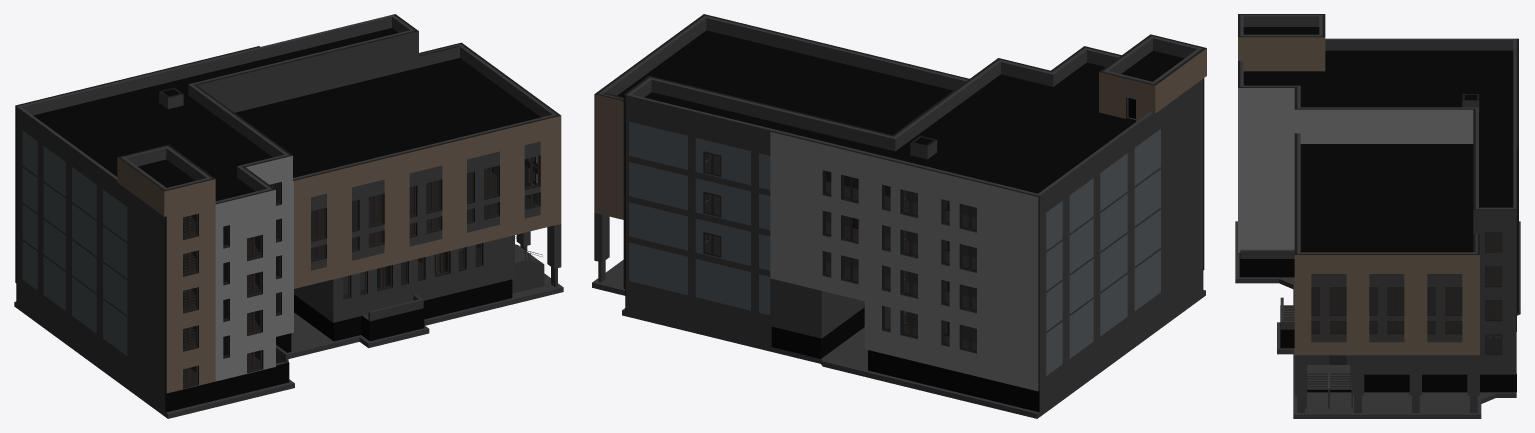
Rendered from School-9_SR.glb.
3 views of the same model, side by side, from view 1: azimuth 30°, elevation 25°; view 2: azimuth 150°, elevation 25°; view 3: azimuth 270°, elevation 25° (orthographic). The views are drawn at different scales.
Visible parts, largest first — view 1: geom-9FF4A40000002B5D, geom-9FF4A40000002AEC, geom-9FF4A40000002B43, geom-9FF4A40000002B69, geom-9FF4A40000002BF0, geom-9FF4A40000002B41, geom-9FF4A40000002BC3, geom-9FF4A40000002B1A, geom-0, geom-9FF4A40000091920, geom-9FF4A40000002AEE; view 2: geom-9FF4A40000002AEC, geom-9FF4A40000002B41, geom-9FF4A40000002B5D, geom-9FF4A40000002BF0, geom-9FF4A40000002B43, geom-9FF4A40000002B69, geom-0, geom-9FF4A40000002BC3, geom-9FF4A40000002B1A, geom-9FF4A40000091920; view 3: geom-9FF4A40000002B5D, geom-9FF4A40000002B43, geom-9FF4A40000002B41, geom-9FF4A40000002B69, geom-9FF4A40000002AEC, geom-9FF4A40000002B1A, geom-0, geom-9FF4A40000002BC3, geom-9FF4A40000091920.
Boxes of the visible parts, bbox=[...] form: geom-9FF4A40000002B5D: bbox=[33, 28, 540, 201]; geom-9FF4A40000002AEC: bbox=[14, 14, 563, 418]; geom-9FF4A40000002B43: bbox=[19, 16, 561, 322]; geom-9FF4A40000002B69: bbox=[117, 116, 561, 393]; geom-9FF4A40000002BF0: bbox=[22, 131, 537, 355]; geom-9FF4A40000002B41: bbox=[215, 155, 293, 381]; geom-9FF4A40000002BC3: bbox=[183, 156, 537, 386]; geom-9FF4A40000002B1A: bbox=[16, 279, 512, 412]; geom-0: bbox=[15, 14, 560, 392]; geom-9FF4A40000091920: bbox=[183, 156, 539, 387]; geom-9FF4A40000002AEE: bbox=[183, 215, 195, 348]; geom-9FF4A40000002AEC: bbox=[592, 15, 1205, 418]; geom-9FF4A40000002B41: bbox=[770, 132, 1038, 391]; geom-9FF4A40000002B5D: bbox=[617, 30, 1184, 193]; geom-9FF4A40000002BF0: bbox=[629, 98, 1160, 375]; geom-9FF4A40000002B43: bbox=[594, 17, 1199, 338]; geom-9FF4A40000002B69: bbox=[594, 48, 1206, 219]; geom-0: bbox=[594, 14, 1206, 390]; geom-9FF4A40000002BC3: bbox=[705, 153, 976, 350]; geom-9FF4A40000002B1A: bbox=[625, 271, 1203, 412]; geom-9FF4A40000091920: bbox=[703, 151, 976, 351]; geom-9FF4A40000002B5D: bbox=[1243, 27, 1513, 252]; geom-9FF4A40000002B43: bbox=[1242, 16, 1516, 395]; geom-9FF4A40000002B41: bbox=[1238, 88, 1473, 252]; geom-9FF4A40000002B69: bbox=[1238, 37, 1479, 355]; geom-9FF4A40000002AEC: bbox=[1235, 15, 1520, 418]; geom-9FF4A40000002B1A: bbox=[1239, 253, 1516, 392]; geom-0: bbox=[1238, 14, 1518, 387]; geom-9FF4A40000002BC3: bbox=[1312, 232, 1500, 362]; geom-9FF4A40000091920: bbox=[1311, 232, 1502, 363].
Size of the model in its own units: 47.65 by 24.1 by 29.55.
